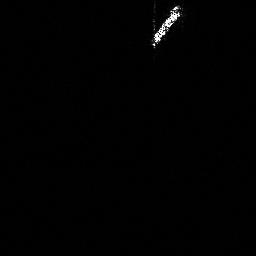ship: (146, 2, 186, 52)
